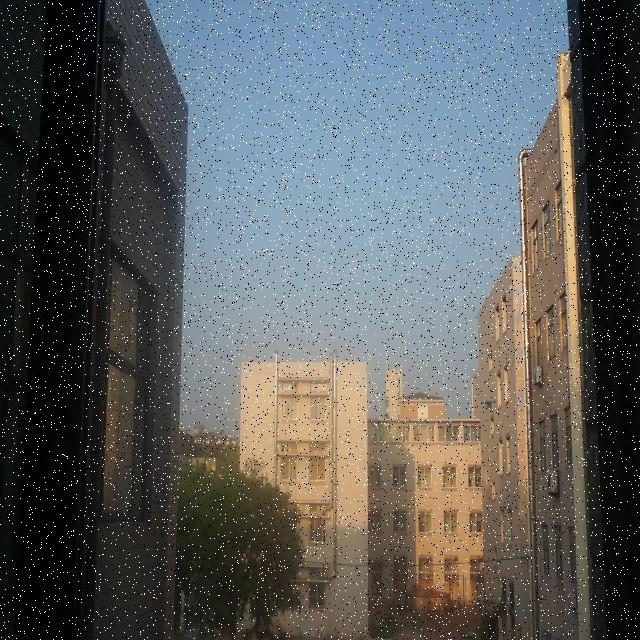UAV: (481, 400, 496, 409)
